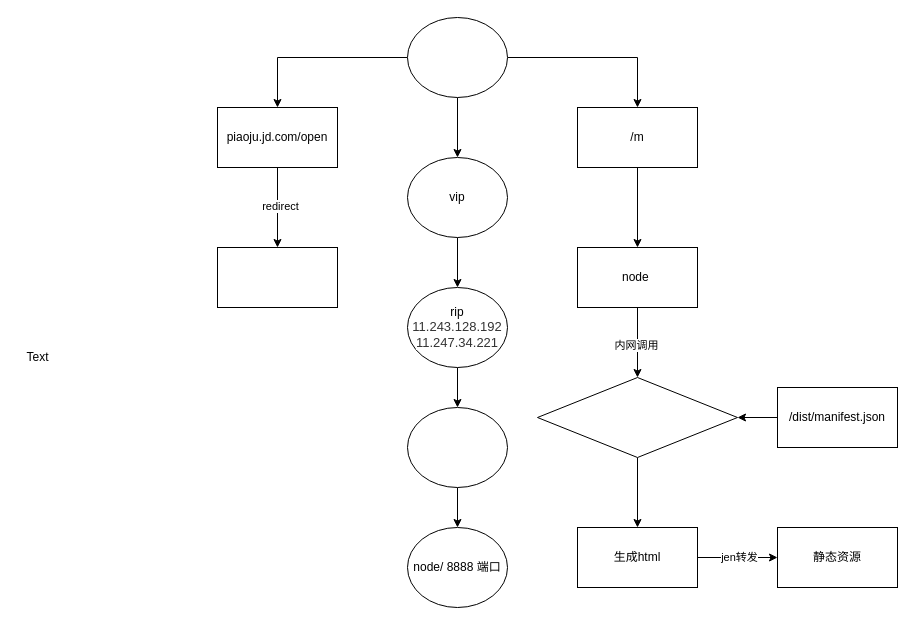
The diagram is 915 pixels wide and 625 high, and some of its shapes have lost their labels. Each missing label, with the centre of its shape:
jen/ 80 端口: the point at 457,447
m-piaoju.jdfin.local 测试环境直接用ip: the point at 637,417
piaoju.jd.com zhipiao.jd.com: the point at 457,57
zhipiao.jd.com/open: the point at 277,277
